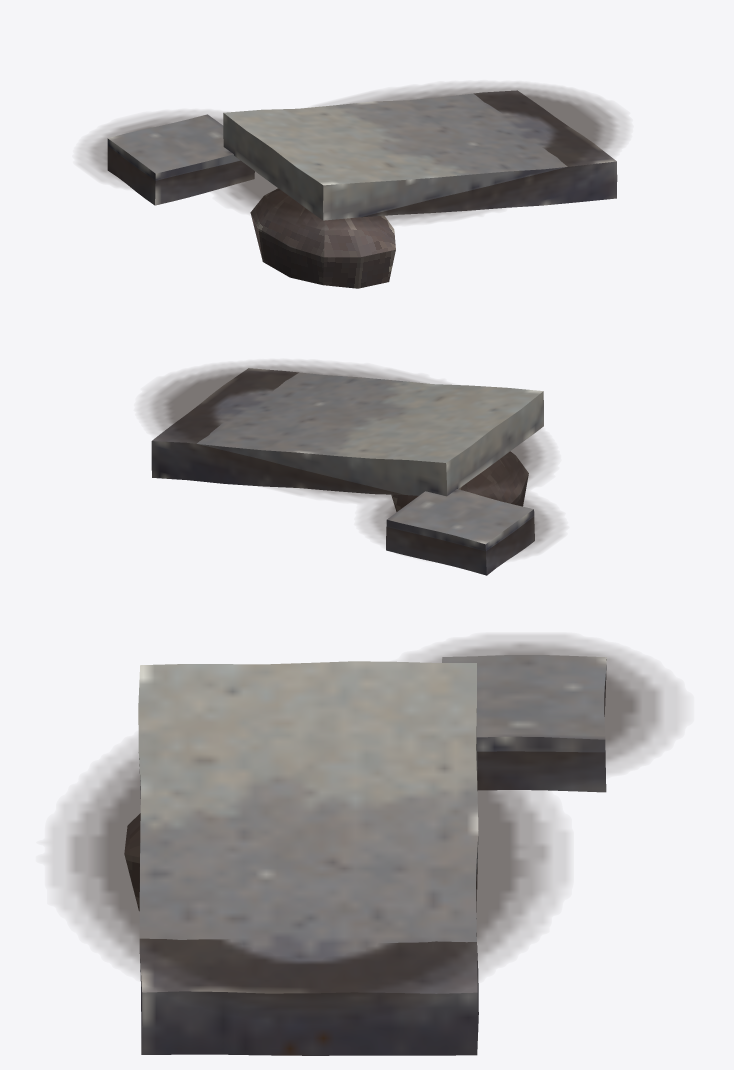
3 renders of one model, top to bottom at view 1: azimuth 30°, elevation 25°; view 2: azimuth 150°, elevation 25°; view 3: azimuth 270°, elevation 25°, orthographic. The views are drawn at different scales.
Parts seen in each view (by area): view 1: Slab, GroundShade, SlabStone; view 2: Slab, GroundShade, SlabStone; view 3: Slab, GroundShade, SlabStone.
Part boxes in pixels (left/top/right/bottom): Slab: left=107, top=90, right=617, bottom=220; GroundShade: left=79, top=83, right=626, bottom=225; SlabStone: left=250, top=188, right=395, bottom=288; Slab: left=151, top=368, right=543, bottom=575; GroundShade: left=141, top=361, right=562, bottom=561; SlabStone: left=391, top=451, right=528, bottom=511; Slab: left=138, top=655, right=606, bottom=1055; GroundShade: left=52, top=636, right=677, bottom=1016; SlabStone: left=124, top=813, right=140, bottom=910.
Size of the model in its own units: 11 by 2.41 by 7.9.
3 materials, 3 textured.
